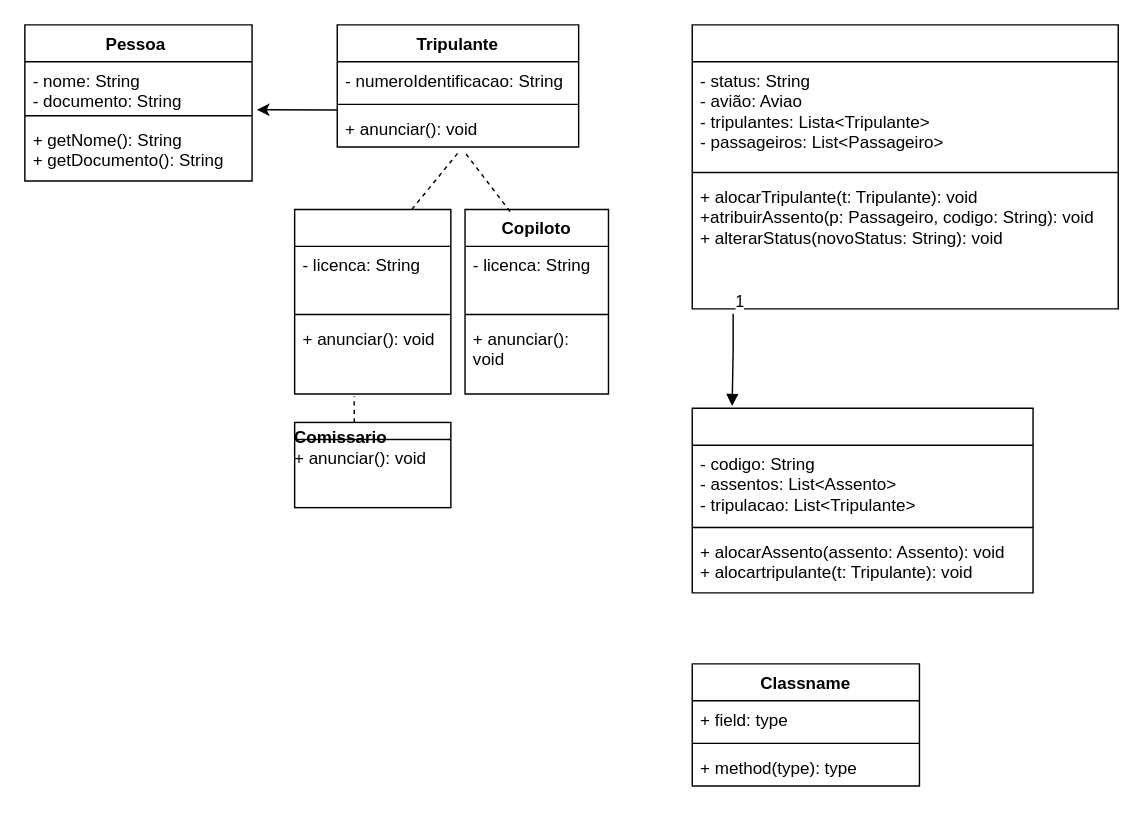
Some shapes in this 1143 by 815 pixel diagram are drawn without their labels. Each missing label, with the box of its shape:
Aviao: (691, 407, 1033, 593)
Piloto: (293, 208, 451, 394)
Voo: (691, 23, 1118, 309)
